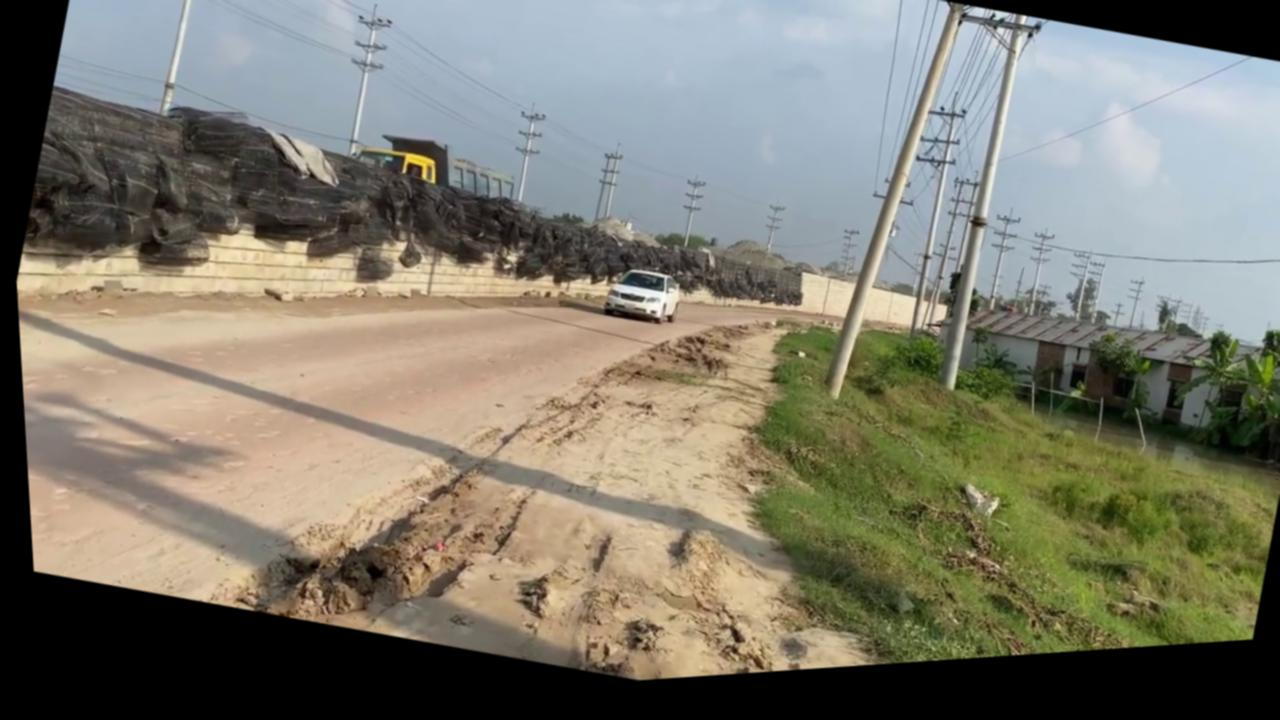Car: (594, 268, 682, 340)
Garbage: (12, 40, 822, 435)
Pole: (796, 2, 985, 425), (911, 25, 1049, 408)
Tree: (342, 122, 521, 219)
